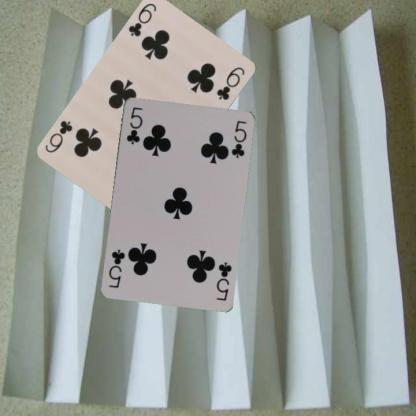5c: (124, 104, 144, 146), (213, 260, 233, 302)
6c: (125, 1, 158, 38)
